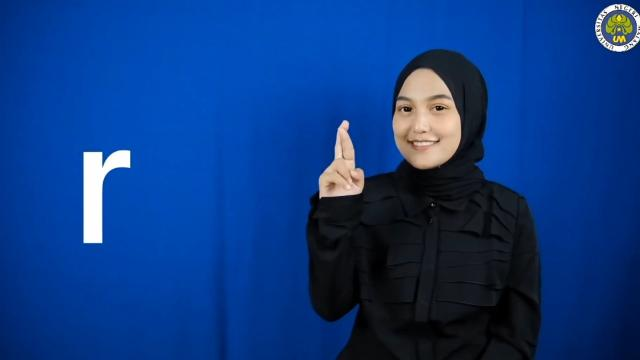R: (317, 116, 367, 198)
